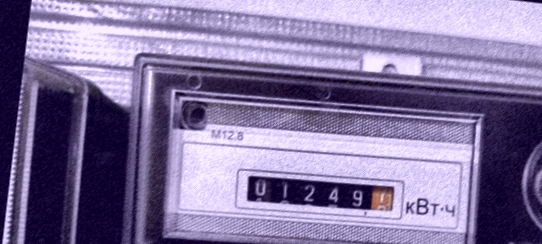0: (252, 175, 267, 197)
1: (277, 178, 289, 198)
2: (300, 181, 316, 203)
4: (325, 183, 339, 203)
7: (374, 184, 388, 204)
9: (348, 186, 363, 208)
screen: (224, 159, 404, 225)
